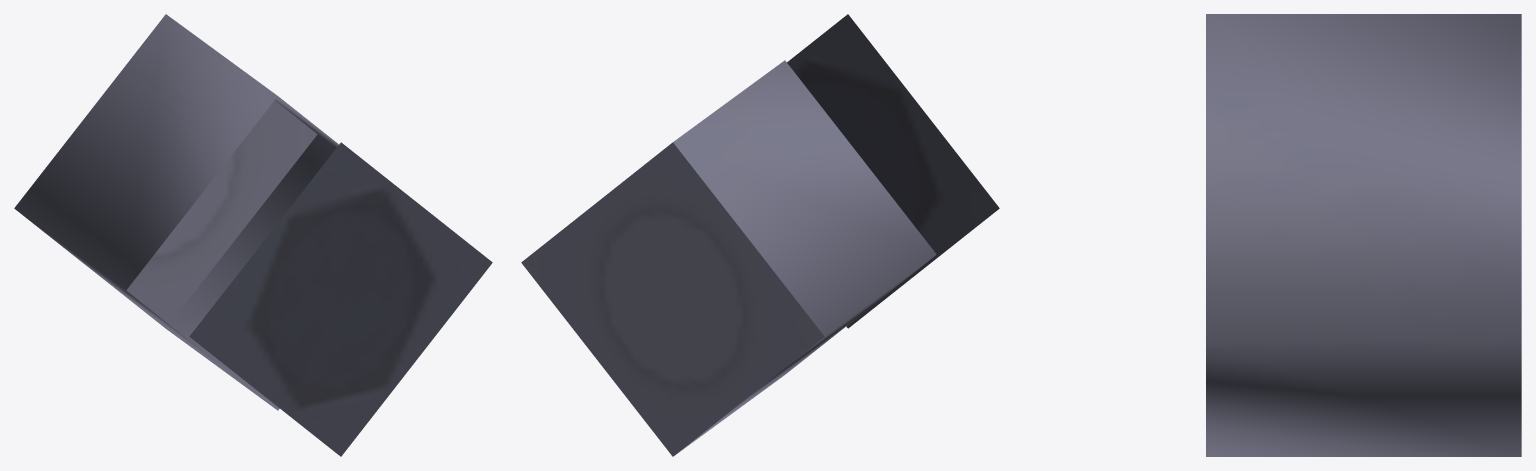
The model's file is obj_interactive_suspensionsport_on_lod1.fbx.
The picture shows the model from 3 angles, left to right: view 1: azimuth 30°, elevation 25°; view 2: azimuth 150°, elevation 25°; view 3: azimuth 270°, elevation 25°; orthographic projection. The views are drawn at different scales.
Parts seen in each view (by area): view 1: obj_interactive_suspensionsport_on_lod1; view 2: obj_interactive_suspensionsport_on_lod1; view 3: obj_interactive_suspensionsport_on_lod1.
Boxes of the visible parts, box(x1,y1,x2,y2) form: obj_interactive_suspensionsport_on_lod1: box(14, 14, 492, 456); obj_interactive_suspensionsport_on_lod1: box(521, 14, 999, 456); obj_interactive_suspensionsport_on_lod1: box(1206, 14, 1521, 456).
Size of the model in its own units: 1 by 0.9908 by 0.9994.
Materials: 1 (1 with a texture image).
